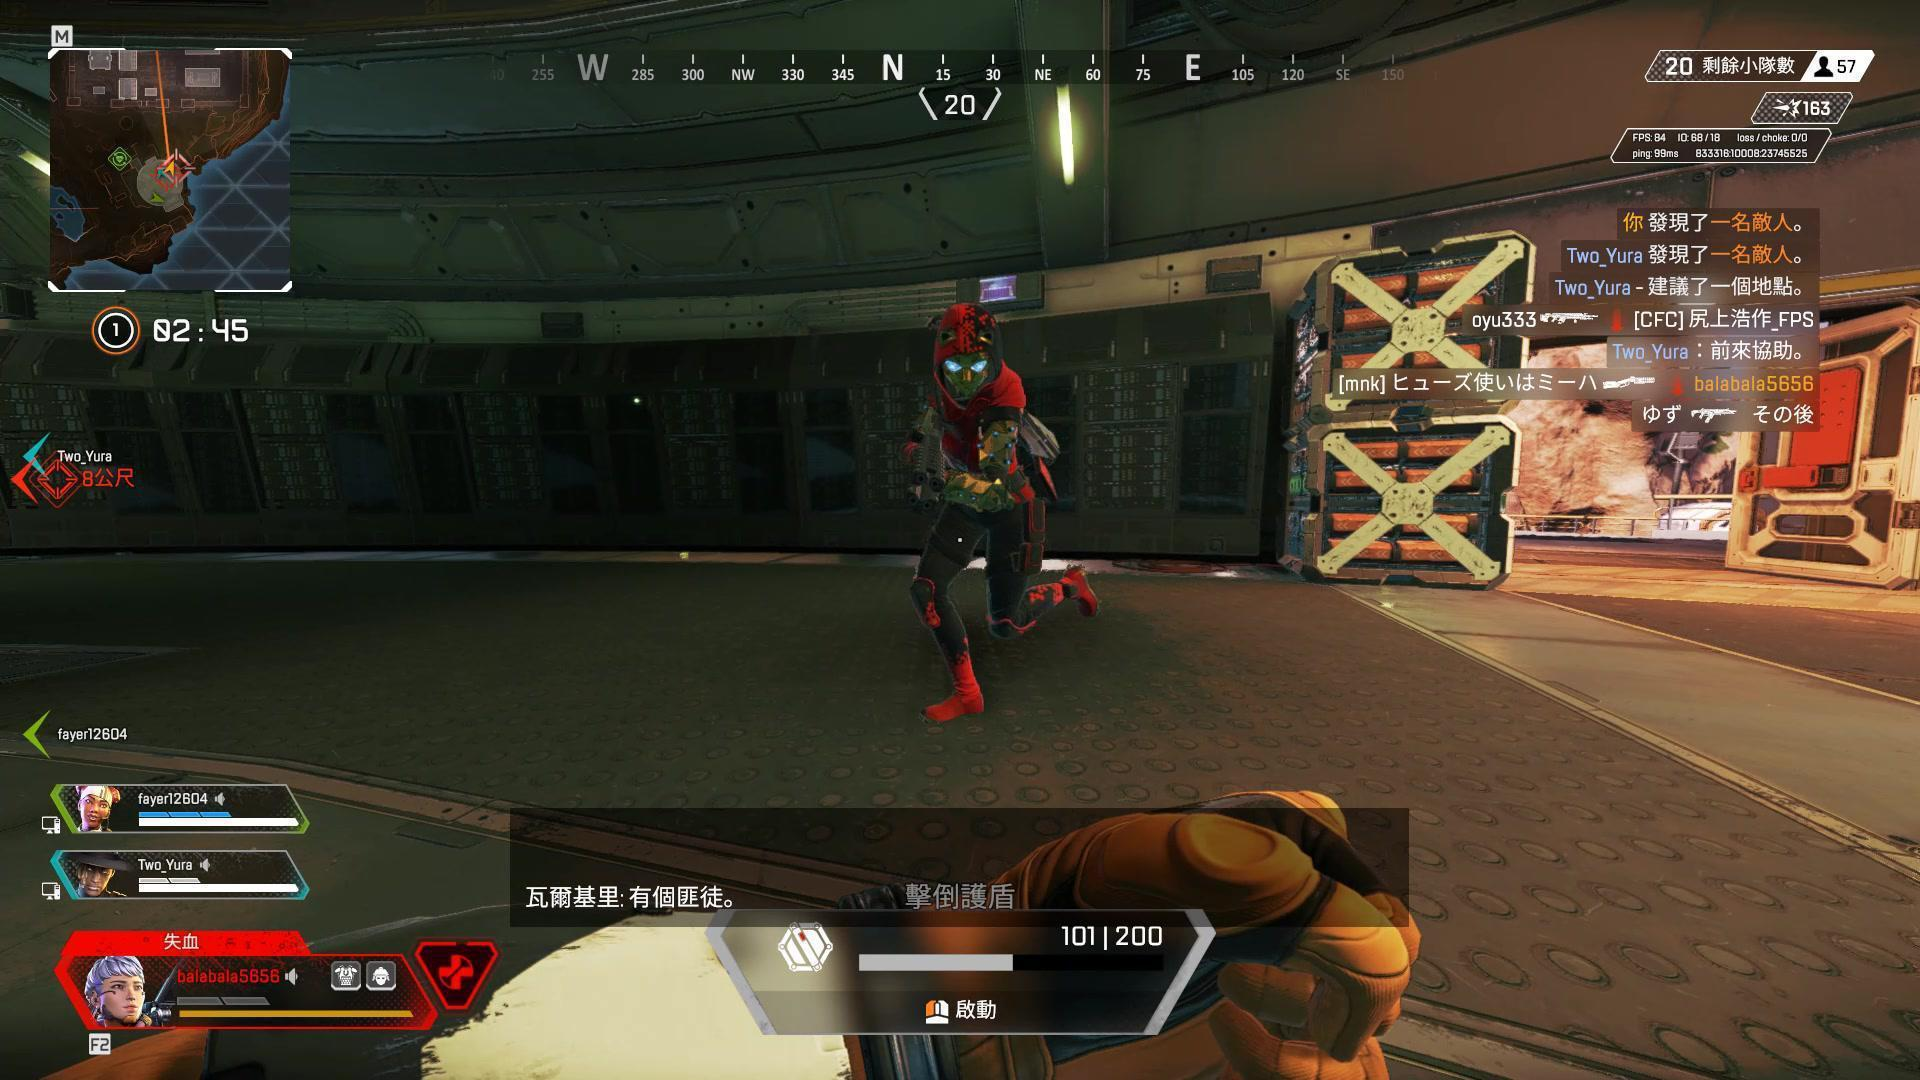avatar: (889, 299, 1108, 739)
